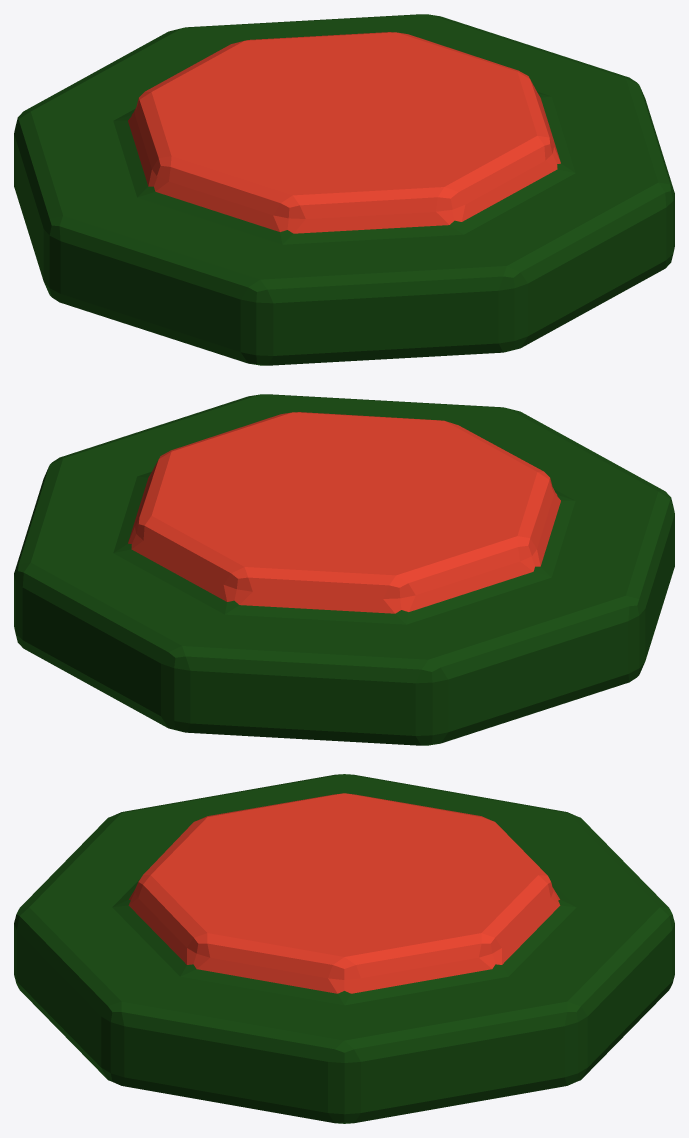
File: mine.glb
3 renders of one model, top to bottom at view 1: azimuth 30°, elevation 25°; view 2: azimuth 150°, elevation 25°; view 3: azimuth 270°, elevation 25°, orthographic. The views are drawn at different scales.
Parts seen in each view (by area): view 1: Cylinder; view 2: Cylinder; view 3: Cylinder.
Boxes of the visible parts, x1,y1,x2,y2 form: Cylinder: [14, 14, 674, 365]; Cylinder: [14, 394, 674, 745]; Cylinder: [14, 774, 674, 1123].
Size of the model in its own units: 0.7905 by 0.1525 by 0.7905.
